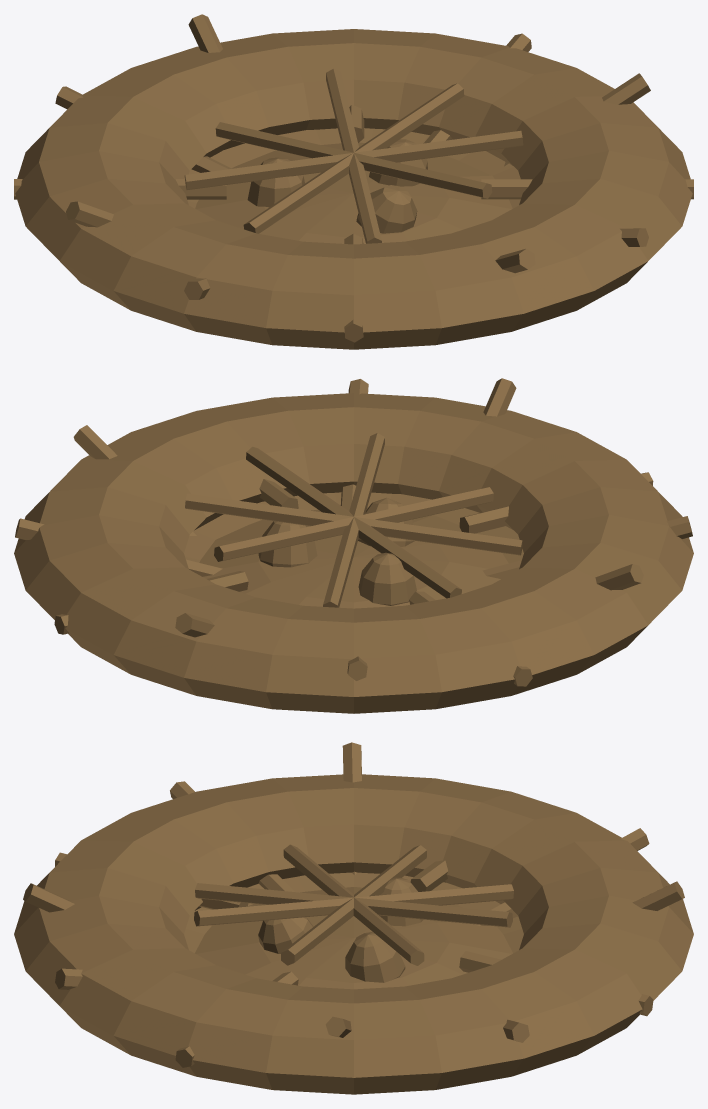
The model's file is bird_nest.glb.
3 views of the same model, one above another, from view 1: azimuth 30°, elevation 25°; view 2: azimuth 150°, elevation 25°; view 3: azimuth 270°, elevation 25° (orthographic).
Visible parts, largest first — view 1: bird_nest; view 2: bird_nest; view 3: bird_nest.
Part boxes in pixels (x1=…): bird_nest: x1=14, y1=14, x2=693, y2=349; bird_nest: x1=14, y1=378, x2=693, y2=713; bird_nest: x1=14, y1=742, x2=693, y2=1094.
Bounding box in the file's own units: 0.32 × 0.0673 × 0.32.
